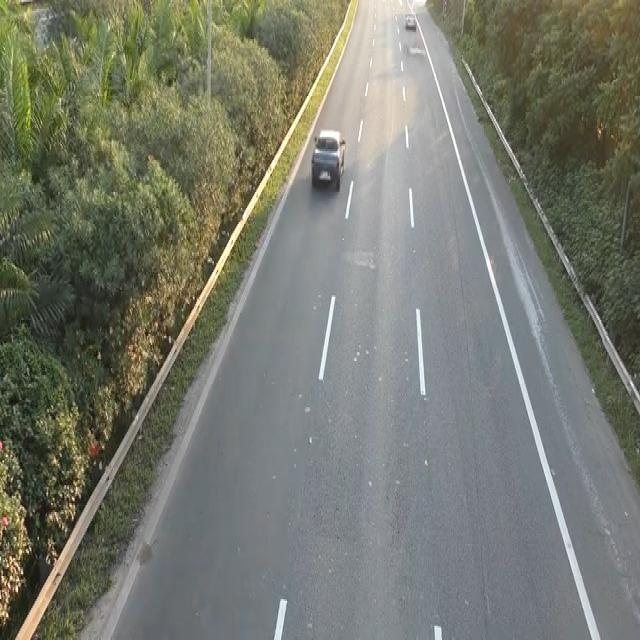car: (309, 126, 347, 192)
